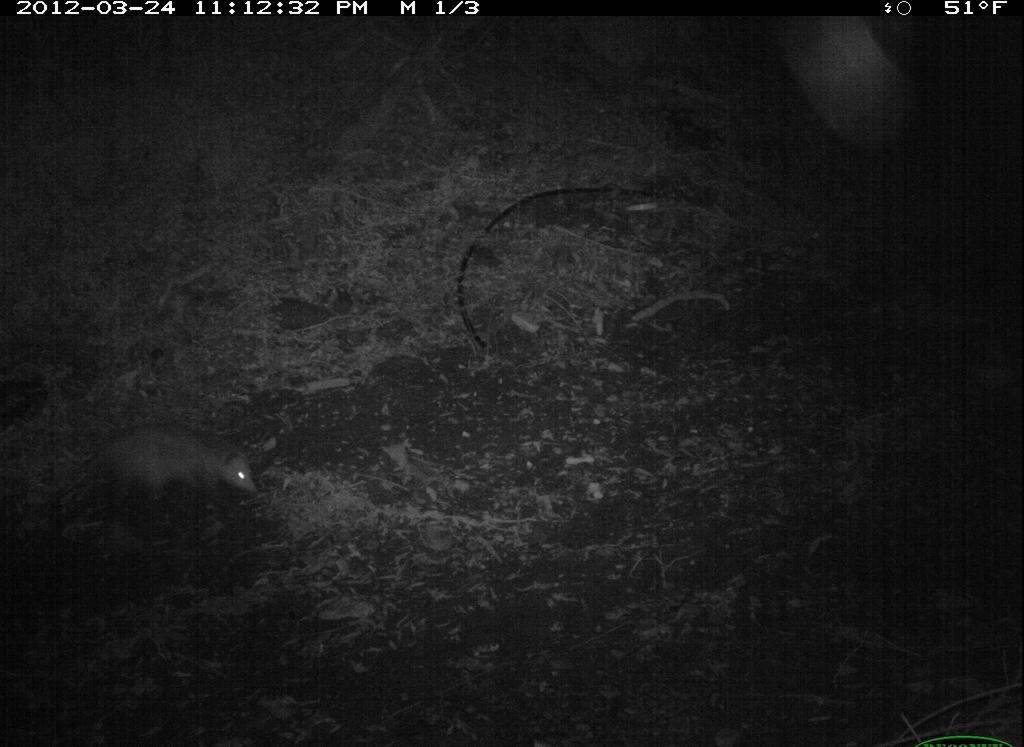opossum: (48, 425, 274, 524)
